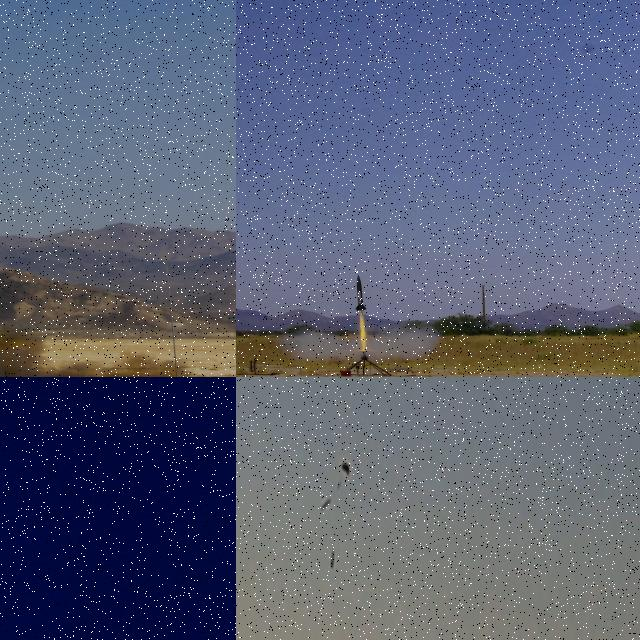Rocket: (356, 274, 366, 310), (331, 550, 334, 568)
